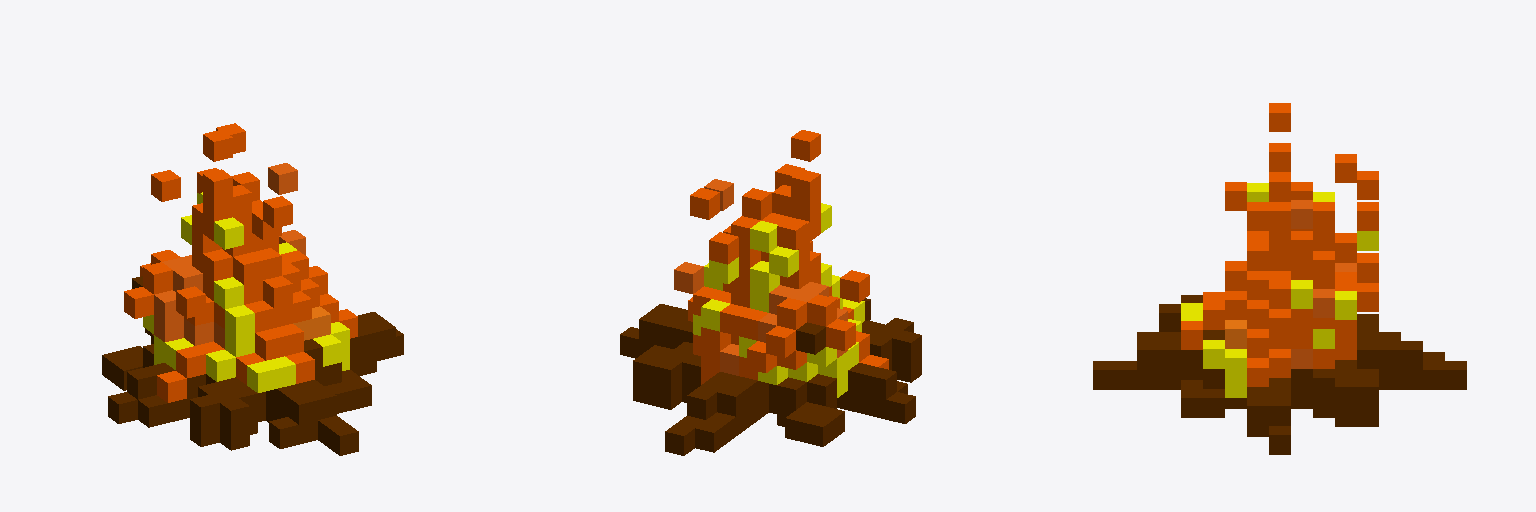
The picture shows the model from 3 angles: view 1: azimuth 30°, elevation 25°; view 2: azimuth 150°, elevation 25°; view 3: azimuth 270°, elevation 25°; orthographic projection.
Size of the model in its own units: 15 by 13 by 17.
Materials: 1 (1 with a texture image).